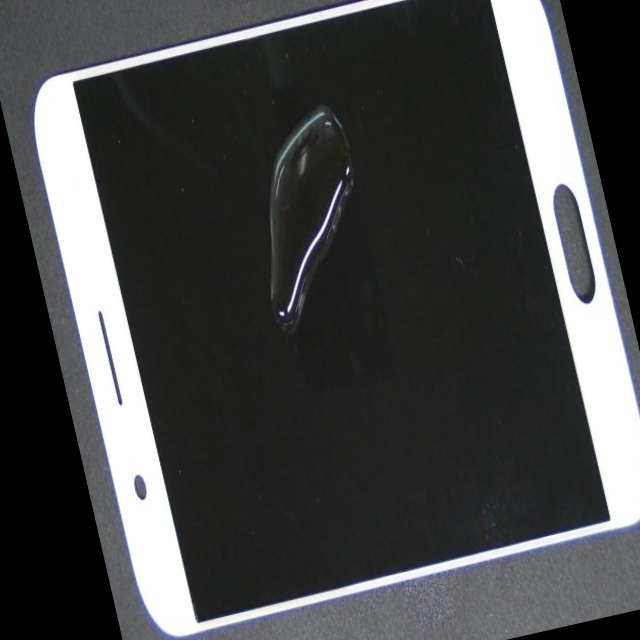oil: (172, 60, 535, 321)
